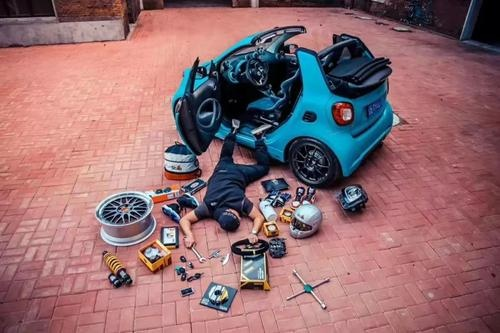falling: (173, 107, 280, 257)
